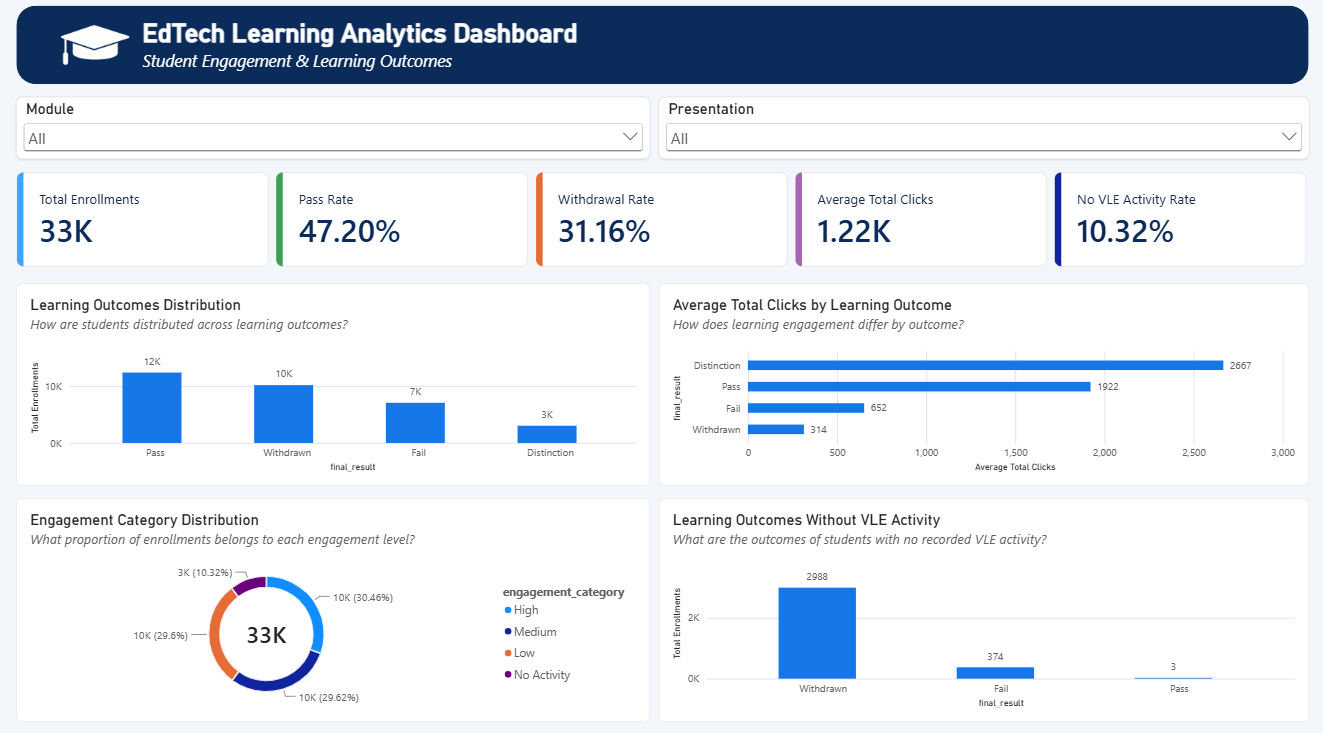

This screenshot's page, from the dashboard's own definition file:
{"tool":"powerbi","page":{"name":"Page 1","canvas":[1600,900],"ordinal":0},"visuals":[{"type":"cardVisual","fields":{"Data":["dashboard_data.Total Enrollments","dashboard_data.Pass Rate","dashboard_data.Withdrawal Rate","dashboard_data.Average Total Clicks","dashboard_data.No VLE Activity Rate"]},"box":[20,215,1560,115],"z":0},{"type":"clusteredColumnChart","title":"Learning Outcomes Distribution","fields":{"Category":["dashboard_data.final_result"],"Y":["dashboard_data.Total Enrollments"]},"box":[20,350,765,245],"z":1000},{"type":"clusteredBarChart","title":"Average Total Clicks by Learning Outcome","fields":{"Category":["dashboard_data.final_result"],"Y":["dashboard_data.Average Total Clicks"]},"box":[795,350,785,245],"z":2000},{"type":"donutChart","title":"Engagement Category Distribution","fields":{"Category":["dashboard_data.engagement_category"],"Y":["dashboard_data.Total Enrollments"]},"box":[20,610,765,270],"z":3000},{"type":"clusteredColumnChart","title":"Learning Outcomes Without VLE Activity","fields":{"Category":["dashboard_data.final_result"],"Y":["dashboard_data.Total Enrollments"]},"box":[795,610,785,270],"z":4000},{"type":"slicer","fields":{"Values":["dashboard_data.code_presentation"]},"box":[795,125,785,75],"z":5000},{"type":"shape","box":[19.6,15.1,1559.3,95],"z":6000},{"type":"image","box":[57.3,7.5,115,110],"z":9000},{"type":"textbox","box":[1006,750,594,150],"z":10000},{"type":"textbox","title":"EdTech Learning Analytics Dashboard","box":[171.9,30.2,944,79.9],"z":11000},{"type":"slicer","fields":{"Values":["dashboard_data.code_module"]},"box":[20,125,765,75],"z":12000}]}

Visuals, with their boxes in screenshot pixels (x1, y1, x2, y2), scaled from the page's 1600x900 canvas onto the 1323x733 screenshot:
cardVisual - dashboard_data.Total Enrollments x dashboard_data.Pass Rate: detection(17, 175, 1306, 269)
"Learning Outcomes Distribution" clusteredColumnChart: detection(17, 285, 649, 485)
"Average Total Clicks by Learning Outcome" clusteredBarChart: detection(657, 285, 1306, 485)
"Engagement Category Distribution" donutChart: detection(17, 497, 649, 717)
"Learning Outcomes Without VLE Activity" clusteredColumnChart: detection(657, 497, 1306, 717)
slicer - dashboard_data.code_presentation: detection(657, 102, 1306, 163)
shape: detection(16, 12, 1306, 90)
image: detection(47, 6, 142, 96)
textbox: detection(832, 611, 1322, 732)
"EdTech Learning Analytics Dashboard" textbox: detection(142, 25, 923, 90)
slicer - dashboard_data.code_module: detection(17, 102, 649, 163)
